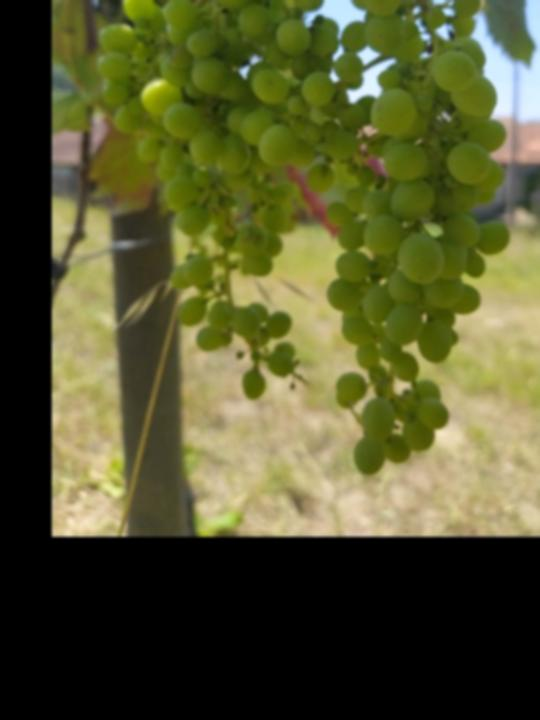grape: (95, 0, 338, 398), (326, 0, 511, 482)
